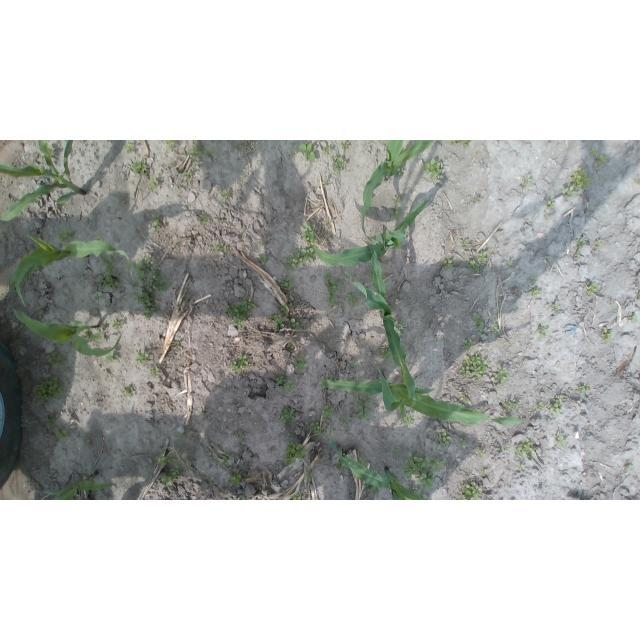Maize: (317, 364, 527, 426), (347, 240, 417, 404), (8, 232, 133, 308), (314, 197, 430, 267), (328, 420, 429, 500), (360, 140, 439, 242), (0, 140, 86, 222), (11, 310, 121, 357), (42, 470, 113, 500)
Weeds: (403, 452, 446, 490), (134, 255, 173, 293), (222, 296, 254, 328), (154, 450, 180, 487), (33, 377, 66, 406), (97, 257, 123, 292), (132, 291, 157, 320), (460, 354, 489, 379), (284, 247, 314, 270), (284, 442, 309, 466), (354, 395, 374, 421), (514, 439, 536, 461), (572, 168, 593, 191), (274, 371, 295, 393), (325, 280, 341, 307), (424, 159, 444, 180), (460, 482, 483, 500), (229, 353, 249, 373), (301, 224, 318, 245), (48, 352, 66, 371), (299, 142, 316, 162), (389, 196, 403, 220), (130, 158, 148, 176), (550, 395, 565, 416), (494, 366, 509, 387), (212, 240, 230, 257), (310, 417, 326, 436), (294, 354, 309, 374), (268, 314, 286, 330), (320, 403, 335, 422), (472, 312, 484, 335), (186, 145, 202, 162), (331, 156, 347, 173), (280, 408, 297, 424), (40, 145, 54, 164), (436, 432, 451, 449), (563, 185, 578, 201), (600, 326, 613, 344), (347, 293, 361, 309), (413, 488, 430, 501), (230, 470, 243, 487), (55, 424, 68, 441), (135, 350, 149, 365), (151, 214, 162, 233), (58, 229, 75, 241), (503, 400, 521, 411), (279, 275, 293, 289), (468, 260, 481, 275), (555, 432, 567, 448), (338, 412, 350, 428), (379, 348, 393, 361), (198, 211, 211, 225), (122, 140, 136, 153), (537, 326, 550, 340), (394, 320, 406, 335), (147, 177, 159, 192), (365, 483, 380, 495), (280, 302, 293, 315), (521, 173, 533, 187), (220, 189, 231, 204), (182, 170, 192, 186), (256, 252, 269, 264), (221, 455, 234, 467), (528, 289, 542, 300), (587, 282, 598, 296), (449, 141, 471, 148), (104, 351, 114, 366), (44, 415, 56, 427), (594, 154, 606, 166), (459, 239, 472, 250), (404, 412, 415, 425), (291, 318, 302, 331), (576, 384, 590, 394), (111, 319, 123, 330), (122, 387, 134, 398), (442, 257, 453, 269), (465, 338, 476, 350), (477, 251, 487, 264), (461, 394, 472, 405), (390, 447, 402, 457), (165, 140, 176, 150), (306, 472, 315, 484), (335, 460, 345, 470), (204, 147, 213, 158), (577, 238, 586, 249), (339, 141, 349, 150), (94, 329, 104, 338), (491, 325, 500, 335), (628, 314, 638, 323), (321, 178, 329, 189), (93, 294, 105, 301), (37, 306, 46, 315), (150, 367, 159, 376), (396, 168, 405, 177), (546, 200, 555, 209), (175, 432, 185, 440), (595, 239, 603, 249), (536, 402, 544, 412), (322, 146, 331, 154), (323, 272, 331, 281), (358, 457, 366, 466), (553, 301, 559, 312), (460, 438, 468, 446), (294, 492, 302, 500), (369, 273, 376, 282), (479, 449, 486, 458), (238, 432, 245, 441), (325, 376, 337, 381), (573, 250, 579, 260), (325, 219, 333, 226), (531, 275, 538, 283), (591, 147, 598, 155), (502, 445, 511, 451), (519, 465, 526, 472), (287, 343, 294, 350), (86, 439, 93, 446), (131, 280, 137, 288), (508, 261, 514, 269), (544, 214, 552, 220), (625, 464, 632, 470), (200, 412, 206, 419), (290, 150, 297, 156), (259, 240, 267, 245), (635, 174, 640, 182), (232, 497, 245, 500), (351, 364, 358, 369), (218, 374, 223, 381), (391, 292, 398, 297), (175, 341, 180, 347), (381, 275, 387, 280), (610, 302, 616, 307), (476, 197, 481, 203), (214, 456, 219, 461), (124, 498, 136, 500), (342, 453, 347, 457), (638, 292, 640, 299), (548, 355, 552, 358)
